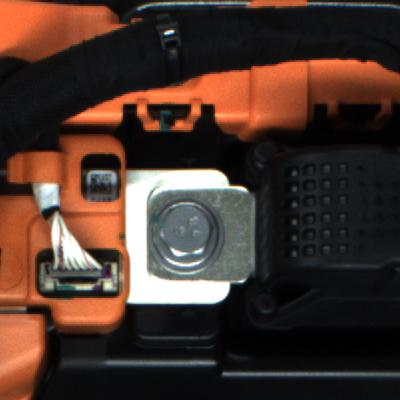nut_b: (146, 199, 236, 283)
